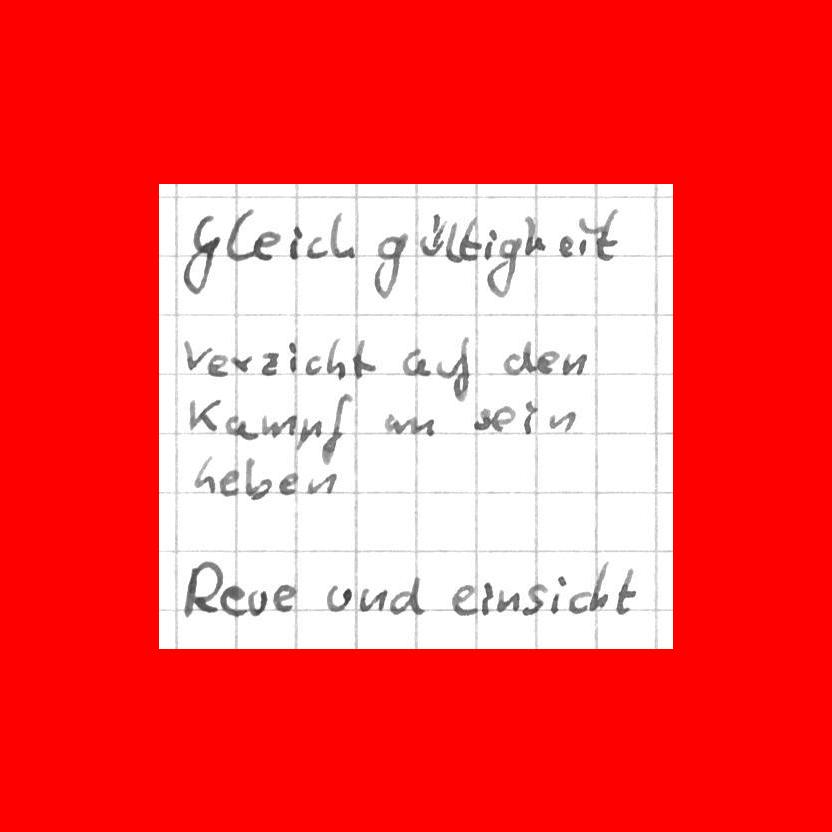Char: (180, 214, 222, 295), (369, 230, 410, 302), (322, 391, 353, 470), (485, 235, 522, 297), (184, 559, 223, 616), (224, 205, 254, 264), (593, 206, 624, 263), (387, 573, 429, 614), (326, 210, 358, 260), (243, 454, 274, 501), (451, 335, 472, 402), (418, 210, 446, 259), (500, 338, 536, 376), (186, 394, 222, 432), (588, 558, 612, 613), (520, 211, 548, 257), (252, 226, 284, 263), (614, 567, 638, 616), (459, 214, 483, 262), (182, 336, 210, 376), (351, 337, 377, 380), (520, 580, 549, 618), (449, 582, 480, 616), (324, 581, 355, 614), (258, 411, 297, 437), (219, 582, 248, 616), (194, 452, 218, 493), (223, 413, 258, 441), (326, 335, 347, 381), (401, 346, 432, 377), (358, 583, 388, 613), (271, 580, 298, 613), (296, 417, 322, 451), (285, 222, 306, 263), (576, 213, 594, 258), (547, 408, 578, 434), (490, 404, 517, 433), (303, 230, 329, 260), (518, 399, 539, 435), (559, 350, 589, 375), (307, 471, 338, 495), (549, 574, 567, 615), (564, 588, 592, 614), (445, 219, 461, 264), (406, 413, 437, 436), (536, 348, 561, 376), (217, 467, 241, 496), (246, 586, 269, 616), (258, 348, 281, 376), (277, 470, 301, 495), (495, 589, 521, 611), (207, 353, 229, 378), (229, 353, 254, 375), (435, 357, 459, 379), (382, 410, 402, 436), (304, 353, 324, 378), (483, 226, 498, 259), (286, 339, 299, 375), (473, 405, 491, 431), (481, 580, 493, 617), (559, 232, 576, 258)
